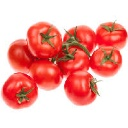tomato: (1, 72, 39, 109), (28, 22, 65, 59), (65, 71, 99, 106), (30, 60, 65, 90), (90, 48, 124, 77), (63, 25, 99, 52), (8, 40, 40, 70), (58, 46, 89, 74), (97, 22, 128, 48)
